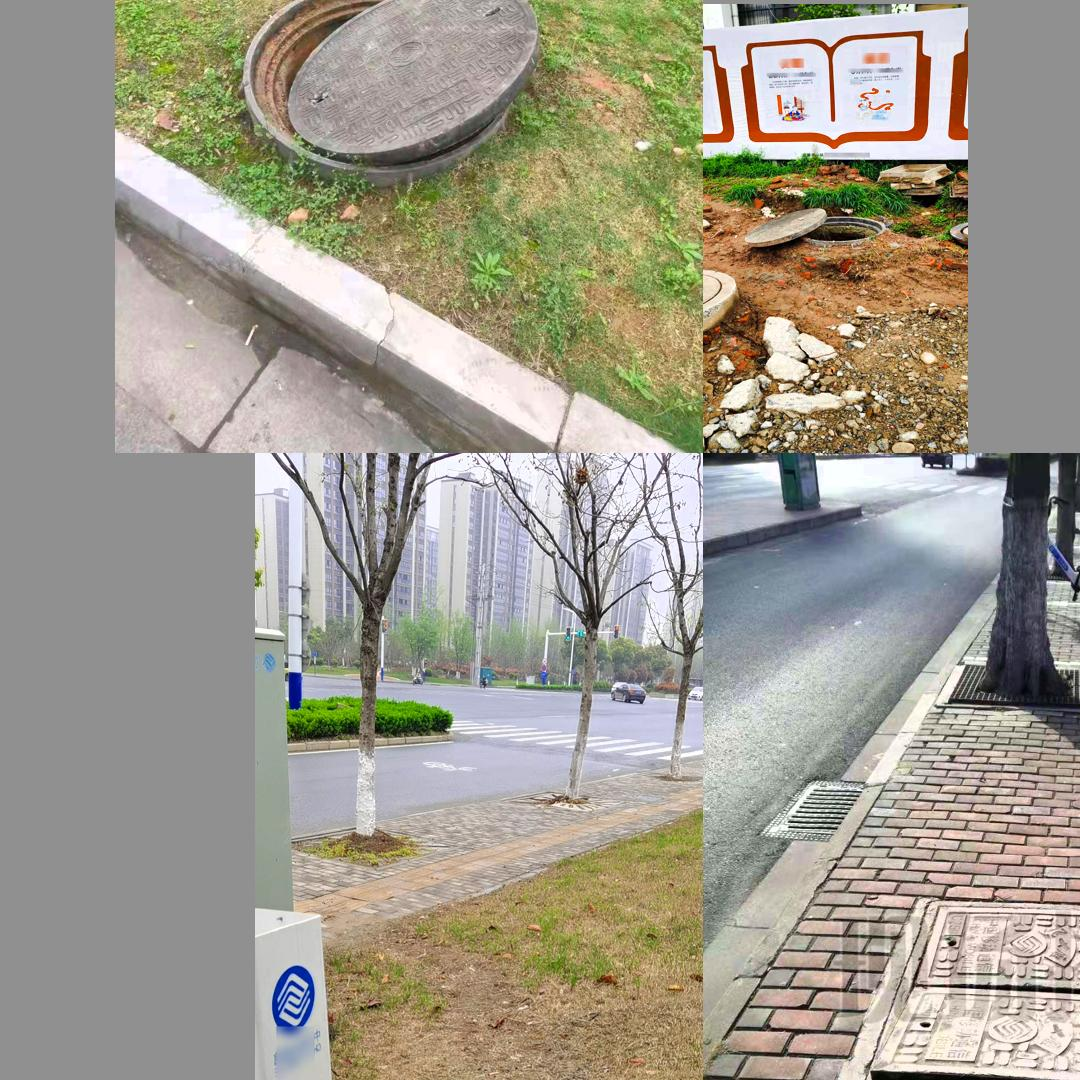uncovered: (239, 0, 540, 184), (858, 903, 1080, 1080), (738, 202, 898, 249)
